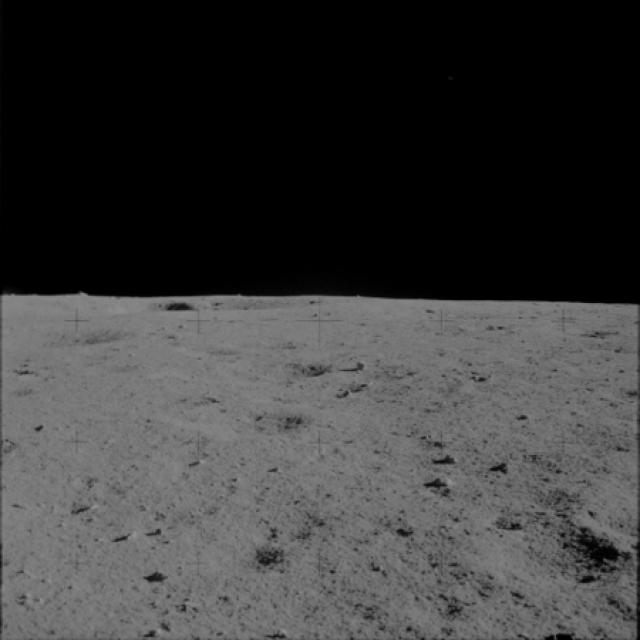crater: (464, 517, 636, 599), (162, 400, 318, 454), (192, 528, 285, 584), (0, 323, 145, 357), (215, 358, 326, 392)
